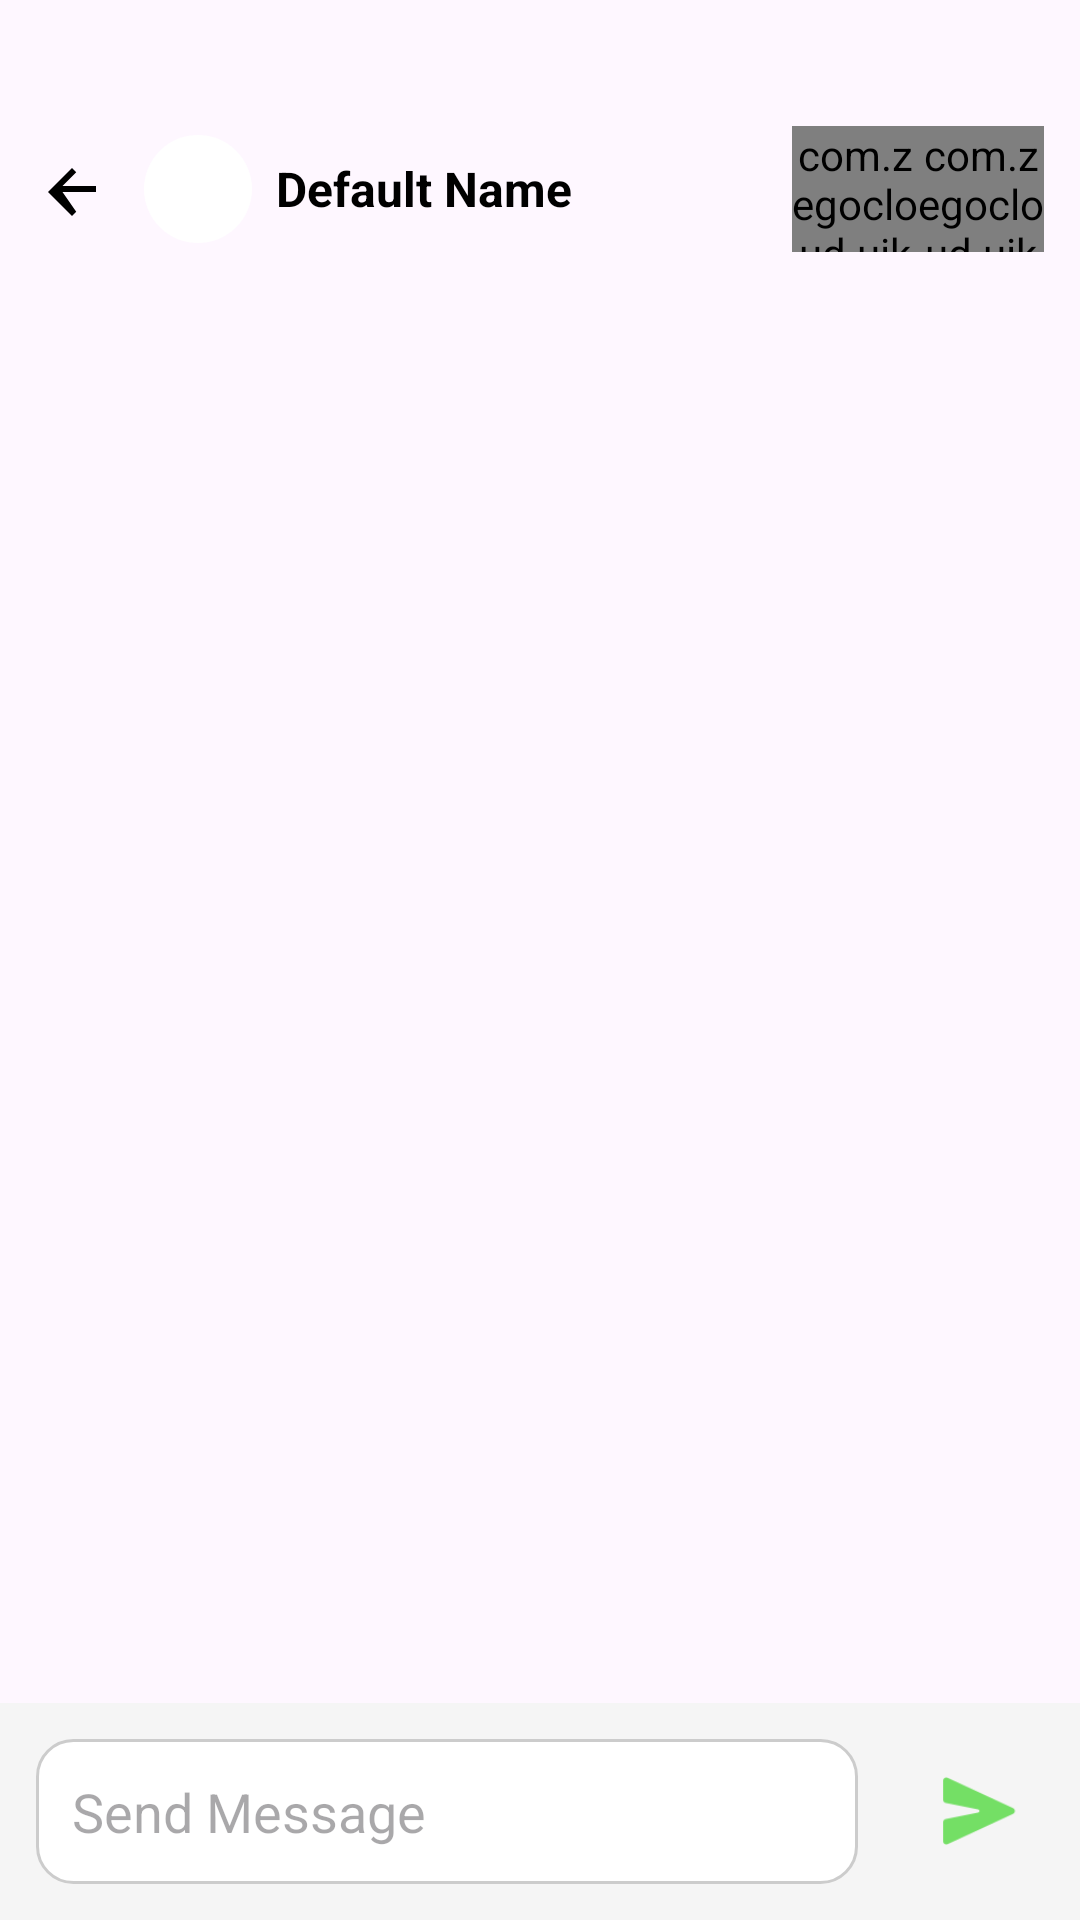

Where icons sit on this 1080px x 1920px app screen, as box=[x1, y1, x2, y2]:
Back: box=[48, 168, 96, 216]
